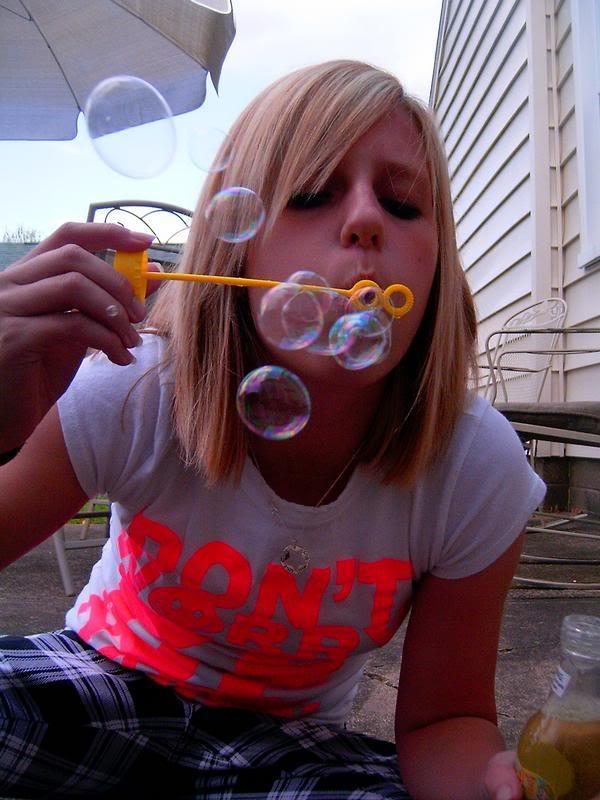person: (4, 65, 528, 800)
